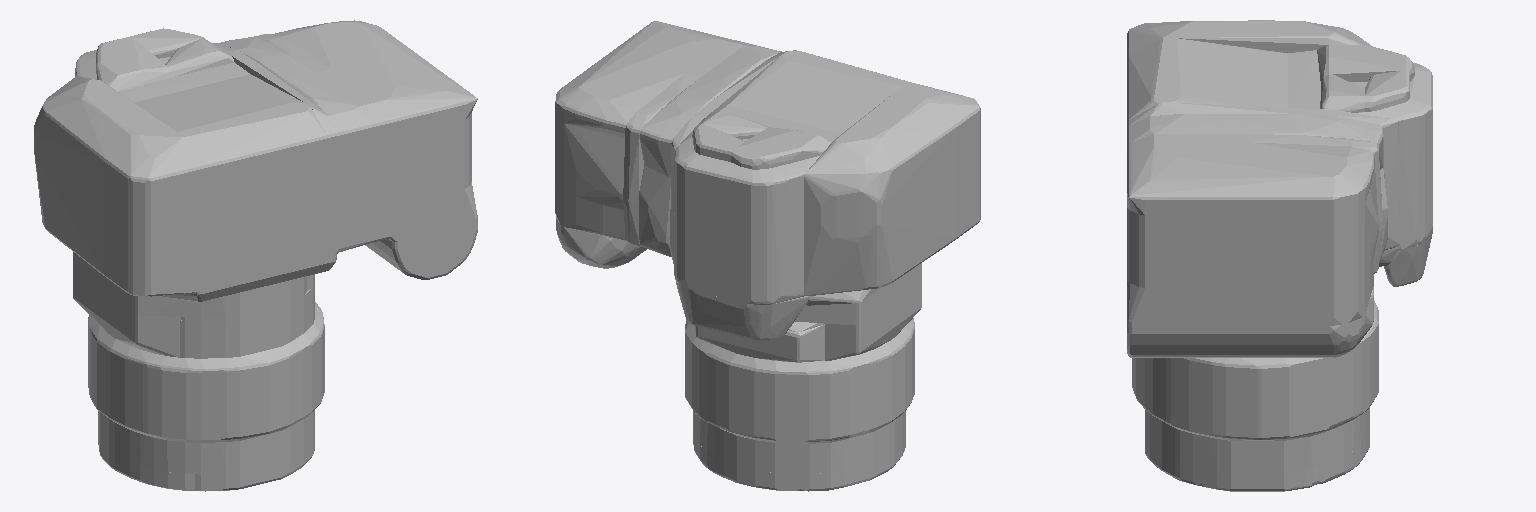
The robot description file, URDF, robot "root":
<?xml version="1.0"?>
<robot name="root">
  <link name="base_link">
    <visual>
      <origin xyz="0 0 0" rpy="0 0 0" />
      <geometry>
        <mesh filename="../meshes/unidex_core_camera-a4b0c73d0f12bc75533388d244d29c5c_008.obj" scale="1.0000E+00 1.0000E+00 1.0000E+00" />
      </geometry>
      <material name="">
        <color rgba="7.50E-01 7.50E-01 7.50E-01 1" />
      </material>
    </visual>
    <collision>
      <origin xyz="0 0 0" rpy="0 0 0" />
      <geometry>
        <mesh filename="../meshes/unidex_core_camera-a4b0c73d0f12bc75533388d244d29c5c_008.obj" scale="1.0000E+00 1.0000E+00 1.0000E+00" />
      </geometry>
    </collision>
  </link>
</robot>

--- Facts derived from the render (not from the file) ---
Views: 3 orthographic renders of the robot side by side, from view 1: azimuth 30°, elevation 25°; view 2: azimuth 150°, elevation 25°; view 3: azimuth 270°, elevation 25°.
Model root with 1 links and 0 joints (none), rooted at base_link, posed every joint at zero.
Visible links, largest first — view 1: base_link; view 2: base_link; view 3: base_link.
Link boxes in pixels (x1,y1,x2,y2): base_link: [34, 20, 477, 491]; base_link: [555, 21, 980, 491]; base_link: [1127, 20, 1432, 491].
Size in the robot's own frame: 0.1018 by 0.0753 by 0.1018 metres.
Meshes: 1 distinct files referenced, 1 mesh visuals loaded (1 OBJ).
